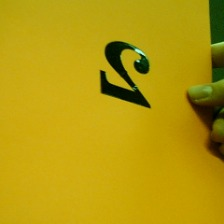orange2: (94, 39, 161, 118)
